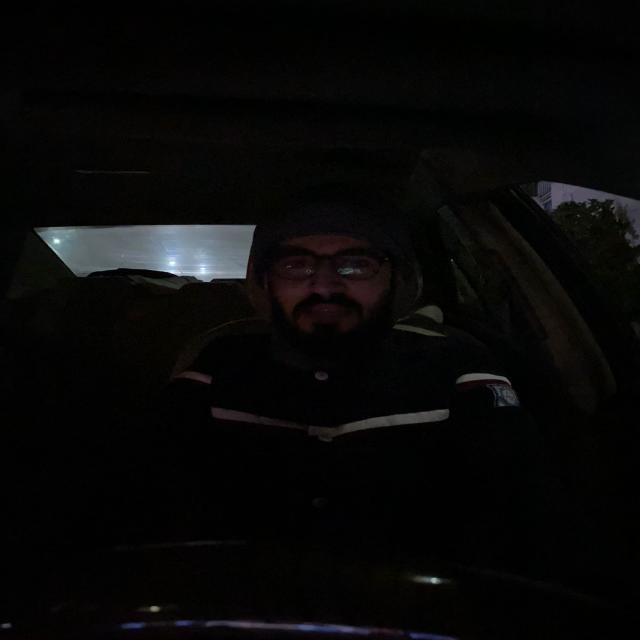person: (244, 189, 415, 363)
